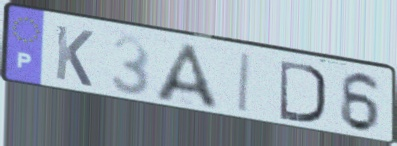3: (110, 33, 153, 97)
6: (338, 71, 383, 136)
A: (152, 41, 223, 113)
D: (278, 57, 329, 126)
I: (235, 51, 255, 117)
K: (53, 22, 96, 90)
